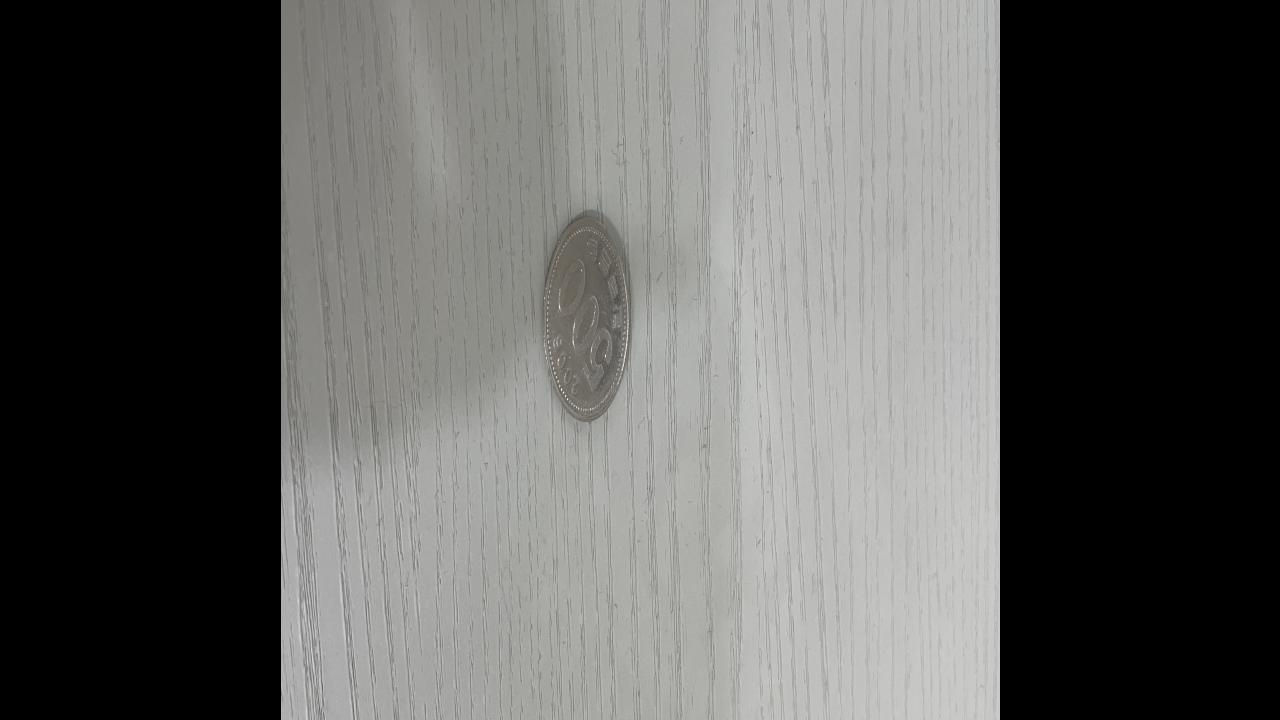coin: (538, 207, 632, 429)
